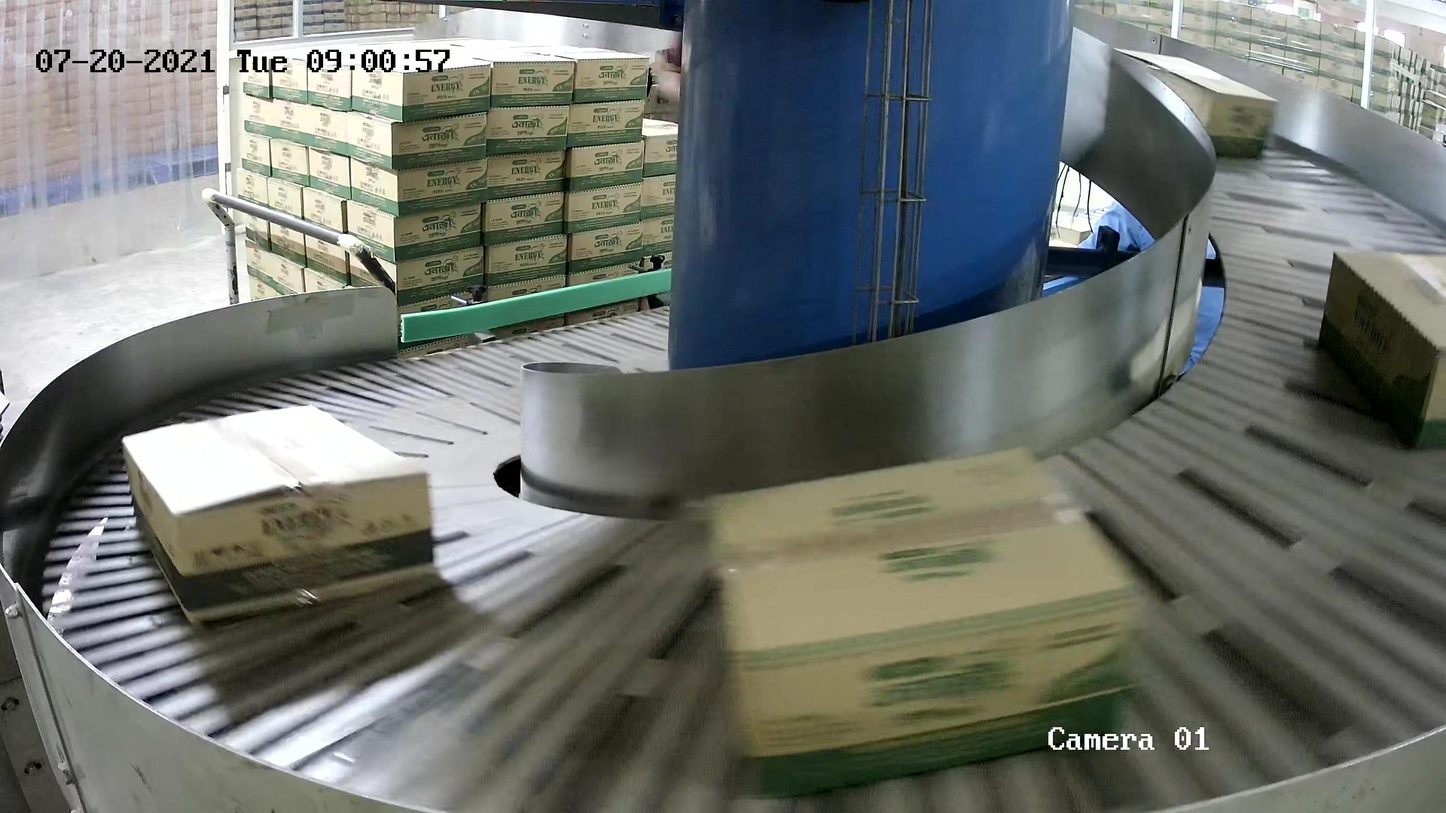Box: (695, 439, 1144, 799), (120, 400, 439, 625), (1315, 248, 1446, 451), (1110, 45, 1279, 159)
